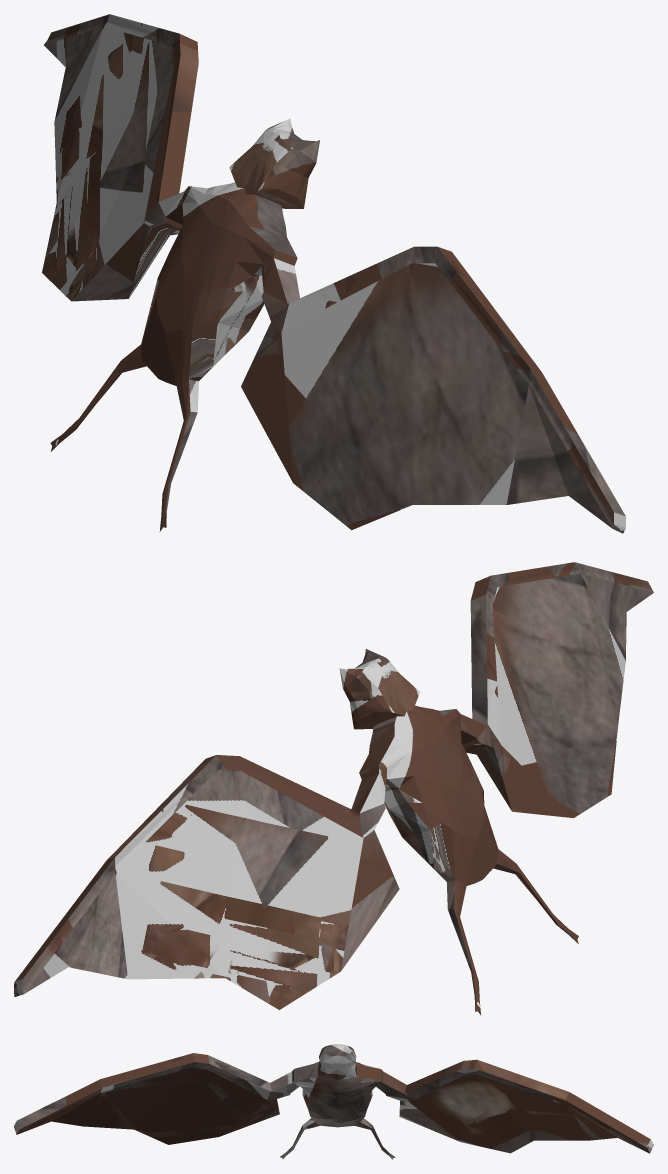
Rendered from Enemigo116.obj.
3 views of the same model, one above another, from view 1: azimuth 30°, elevation 25°; view 2: azimuth 150°, elevation 25°; view 3: azimuth 270°, elevation 25° (orthographic). The views are drawn at different scales.
Parts seen in each view (by area): view 1: Plano; view 2: Plano; view 3: Plano.
Boxes of the visible parts, x1,y1,x2,y2 form: Plano: [42, 14, 625, 533]; Plano: [14, 562, 653, 1015]; Plano: [14, 1044, 653, 1159].
Bounding box in the file's own units: 0.575 × 0.6356 × 2.33.
1 material, 1 textured.
